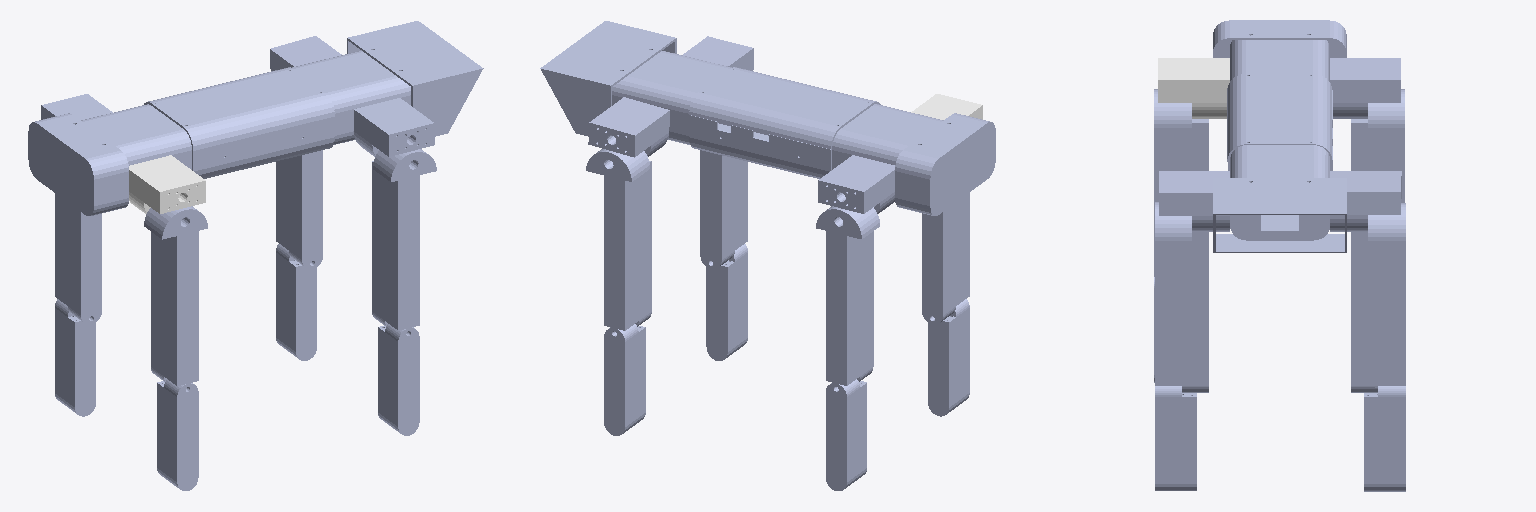
URDF robot description (body_2):
<?xml version="1.0" encoding="utf-8"?>
<!-- This URDF was automatically created by SolidWorks to URDF Exporter! Originally created by [author] ([email redacted]) 
     Commit Version: 1.5.1-0-g916b5db  Build Version: 1.5.7152.31018
     For more information, please see http://wiki.ros.org/sw_urdf_exporter -->
<robot
  name="body_2">
  <link
    name="base_link">
    <inertial>
      <origin
        xyz="-0.155684035227245 -0.15038557963088 0.394222306978325"
        rpy="0 0 0" />
      <mass
        value="2.10754232509242" />
      <inertia
        ixx="0.00435729546118946"
        ixy="1.96212800649361E-06"
        ixz="-3.16106836374245E-05"
        iyy="0.00431021528237915"
        iyz="2.71881252233039E-06"
        izz="0.00679613920376316" />
    </inertial>
    <visual>
      <origin
        xyz="0 0 0"
        rpy="0 0 0" />
      <geometry>
        <mesh
          filename="package://body_2/meshes/base_link.STL" />
      </geometry>
      <material
        name="">
        <color
          rgba="0.792156862745098 0.819607843137255 0.933333333333333 1" />
      </material>
    </visual>
    <collision>
      <origin
        xyz="0 0 0"
        rpy="0 0 0" />
      <geometry>
        <mesh
          filename="package://body_2/meshes/base_link.STL" />
      </geometry>
    </collision>
  </link>
  <link
    name="shoulder_link_lf">
    <inertial>
      <origin
        xyz="0.00717177702659216 -0.0537952753446505 0.385991412345479"
        rpy="0 0 0" />
      <mass
        value="0.218350078498136" />
      <inertia
        ixx="0.000119098761266887"
        ixy="-1.26838304791238E-08"
        ixz="-2.38167486209614E-06"
        iyy="9.40567738246345E-05"
        iyz="1.20632408009471E-09"
        izz="0.000178357454008516" />
    </inertial>
    <visual>
      <origin
        xyz="0 0 0"
        rpy="0 0 0" />
      <geometry>
        <mesh
          filename="package://body_2/meshes/shoulder_link_lf.STL" />
      </geometry>
      <material
        name="">
        <color
          rgba="0.792156862745098 0.819607843137255 0.933333333333333 1" />
      </material>
    </visual>
    <collision>
      <origin
        xyz="0 0 0"
        rpy="0 0 0" />
      <geometry>
        <mesh
          filename="package://body_2/meshes/shoulder_link_lf.STL" />
      </geometry>
    </collision>
  </link>
  <joint
    name="shoulder_joint_lf"
    type="revolute">
    <origin
      xyz="0 0 0"
      rpy="0 0 0" />
    <parent
      link="base_link" />
    <child
      link="shoulder_link_lf" />
    <axis
      xyz="0.0005065 1 0" />
    <limit
      lower="-1.5708"
      upper="1.5708"
      effort="100"
      velocity="1.5" />
    <dynamics
      damping="10"
      friction="0.1" />
  </joint>
  <link
    name="thigh_link_lf">
    <inertial>
      <origin
        xyz="0.0011572 -0.031402 0.26058"
        rpy="0 0 0" />
      <mass
        value="0.4738" />
      <inertia
        ixx="0.0015065"
        ixy="-5.1466E-08"
        ixz="2.4239E-20"
        iyy="0.0014049"
        iyz="-4.0206E-18"
        izz="0.00020143" />
    </inertial>
    <visual>
      <origin
        xyz="0 0 0"
        rpy="0 0 0" />
      <geometry>
        <mesh
          filename="package://body_2/meshes/thigh_link_lf.STL" />
      </geometry>
      <material
        name="">
        <color
          rgba="0.79216 0.81961 0.93333 1" />
      </material>
    </visual>
    <collision>
      <origin
        xyz="0 0 0"
        rpy="0 0 0" />
      <geometry>
        <mesh
          filename="package://body_2/meshes/thigh_link_lf.STL" />
      </geometry>
    </collision>
  </link>
  <joint
    name="elbow_joint_lf"
    type="revolute">
    <origin
      xyz="0 0 0"
      rpy="0 0 0" />
    <parent
      link="shoulder_link_lf" />
    <child
      link="thigh_link_lf" />
    <axis
      xyz="0.0005065 1 0" />
    <limit
      lower="-1.5708"
      upper="0.5708"
      effort="100"
      velocity="1.5" />
    <dynamics
      damping="10"
      friction="0.1" />
  </joint>
  <link
    name="shank_link_lf">
    <inertial>
      <origin
        xyz="-1.2433E-05 -0.024548 0.06946"
        rpy="0 0 0" />
      <mass
        value="0.19795" />
      <inertia
        ixx="0.00028816"
        ixy="-1.3086E-08"
        ixz="6.3593E-21"
        iyy="0.00026232"
        iyz="-7.3321E-19"
        izz="5.482E-05" />
    </inertial>
    <visual>
      <origin
        xyz="0 0 0"
        rpy="0 0 0" />
      <geometry>
        <mesh
          filename="package://body_2/meshes/shank_link_lf.STL" />
      </geometry>
      <material
        name="">
        <color
          rgba="0.79216 0.81961 0.93333 1" />
      </material>
    </visual>
    <collision>
      <origin
        xyz="0 0 0"
        rpy="0 0 0" />
      <geometry>
        <mesh
          filename="package://body_2/meshes/shank_link_lf.STL" />
      </geometry>
    </collision>
  </link>
  <joint
    name="knee_joint_lf"
    type="revolute">
    <origin
      xyz="0 0 0"
      rpy="0 0 0" />
    <parent
      link="thigh_link_lf" />
    <child
      link="shank_link_lf" />
    <axis
      xyz="0.0005065 1 0" />
    <limit
      lower="-1.5708"
      upper="1.5708"
      effort="100"
      velocity="1.5" />
    <dynamics
      damping="10"
      friction="0.1" />
  </joint>
  <link
    name="shoulder_link_rf">
    <inertial>
      <origin
        xyz="0.00678657716852507 -0.24621183307722 0.385984477189113"
        rpy="0 0 0" />
      <mass
        value="0.218350078498136" />
      <inertia
        ixx="0.000119007083932726"
        ixy="-1.26373956875525E-08"
        ixz="-4.80928295612577E-07"
        iyy="9.4056773801115E-05"
        iyz="2.43591345570969E-10"
        izz="0.000178449131366197" />
    </inertial>
    <visual>
      <origin
        xyz="0 0 0"
        rpy="0 0 0" />
      <geometry>
        <mesh
          filename="package://body_2/meshes/shoulder_link_rf.STL" />
      </geometry>
      <material
        name="">
        <color
          rgba="0.792156862745098 0.819607843137255 0.933333333333333 1" />
      </material>
    </visual>
    <collision>
      <origin
        xyz="0 0 0"
        rpy="0 0 0" />
      <geometry>
        <mesh
          filename="package://body_2/meshes/shoulder_link_rf.STL" />
      </geometry>
    </collision>
  </link>
  <joint
    name="shoulder_joint_rf"
    type="revolute">
    <origin
      xyz="0 0 0"
      rpy="0 0 0" />
    <parent
      link="base_link" />
    <child
      link="shoulder_link_rf" />
    <axis
      xyz="0.0005065 1 0" />
    <limit
      lower="-1.5708"
      upper="1.5708"
      effort="100"
      velocity="1.5" />
    <dynamics
      damping="10"
      friction="0.1" />
  </joint>
  <link
    name="thigh_link_rf">
    <inertial>
      <origin
        xyz="0.00089202 -0.2686 0.26055"
        rpy="0 0 0" />
      <mass
        value="0.4738" />
      <inertia
        ixx="0.0015065"
        ixy="-5.1466E-08"
        ixz="-2.3111E-20"
        iyy="0.0014049"
        iyz="-4.2668E-18"
        izz="0.00020143" />
    </inertial>
    <visual>
      <origin
        xyz="0 0 0"
        rpy="0 0 0" />
      <geometry>
        <mesh
          filename="package://body_2/meshes/thigh_link_rf.STL" />
      </geometry>
      <material
        name="">
        <color
          rgba="0.79216 0.81961 0.93333 1" />
      </material>
    </visual>
    <collision>
      <origin
        xyz="0 0 0"
        rpy="0 0 0" />
      <geometry>
        <mesh
          filename="package://body_2/meshes/thigh_link_rf.STL" />
      </geometry>
    </collision>
  </link>
  <joint
    name="elbow_joint_rf"
    type="revolute">
    <origin
      xyz="0 0 0"
      rpy="0 0 0" />
    <parent
      link="shoulder_link_rf" />
    <child
      link="thigh_link_rf" />
    <axis
      xyz="0.0005065 1 0" />
    <limit
      lower="-1.5708"
      upper="1.5708"
      effort="100"
      velocity="1.5" />
    <dynamics
      damping="10"
      friction="0.1" />
  </joint>
  <link
    name="shank_link_rf">
    <inertial>
      <origin
        xyz="-0.00013952 -0.27545 0.069436"
        rpy="0 0 0" />
      <mass
        value="0.19795" />
      <inertia
        ixx="0.00028816"
        ixy="-1.3086E-08"
        ixz="-8.1673E-19"
        iyy="0.00026232"
        iyz="-7.0243E-19"
        izz="5.482E-05" />
    </inertial>
    <visual>
      <origin
        xyz="0 0 0"
        rpy="0 0 0" />
      <geometry>
        <mesh
          filename="package://body_2/meshes/shank_link_rf.STL" />
      </geometry>
      <material
        name="">
        <color
          rgba="0.79216 0.81961 0.93333 1" />
      </material>
    </visual>
    <collision>
      <origin
        xyz="0 0 0"
        rpy="0 0 0" />
      <geometry>
        <mesh
          filename="package://body_2/meshes/shank_link_rf.STL" />
      </geometry>
    </collision>
  </link>
  <joint
    name="knee_joint_rf"
    type="revolute">
    <origin
      xyz="0 0 0"
      rpy="0 0 0" />
    <parent
      link="thigh_link_rf" />
    <child
      link="shank_link_rf" />
    <axis
      xyz="0.000506502354392091 0.999999871727674 0" />
    <limit
      lower="-1.5708"
      upper="1.5708"
      effort="100"
      velocity="1.5" />
    <dynamics
      damping="10"
      friction="0.1" />
  </joint>
  <link
    name="shoulder_link_lb">
    <inertial>
      <origin
        xyz="-0.316119794412013 -0.0542536019385395 0.384115405127243"
        rpy="0 0 0" />
      <mass
        value="0.218350078498136" />
      <inertia
        ixx="0.000119007090333597"
        ixy="2.57750436027565E-19"
        ixz="-4.80928357302368E-07"
        iyy="9.40567674002435E-05"
        iyz="9.53966235697497E-21"
        izz="0.000178449131366197" />
    </inertial>
    <visual>
      <origin
        xyz="0 0 0"
        rpy="0 0 0" />
      <geometry>
        <mesh
          filename="package://body_2/meshes/shoulder_link_lb.STL" />
      </geometry>
      <material
        name="">
        <color
          rgba="0.792156862745098 0.819607843137255 0.933333333333333 1" />
      </material>
    </visual>
    <collision>
      <origin
        xyz="0 0 0"
        rpy="0 0 0" />
      <geometry>
        <mesh
          filename="package://body_2/meshes/shoulder_link_lb.STL" />
      </geometry>
    </collision>
  </link>
  <joint
    name="shoulder_joint_lb"
    type="revolute">
    <origin
      xyz="0 0 0"
      rpy="0 0 0" />
    <parent
      link="base_link" />
    <child
      link="shoulder_link_lb" />
    <axis
      xyz="0 1 0" />
    <limit
      lower="-1.5708"
      upper="1.5708"
      effort="100"
      velocity="1.5" />
    <dynamics
      damping="10"
      friction="0.1" />
  </joint>
  <link
    name="thigh_link_lb">
    <inertial>
      <origin
        xyz="-0.31276 -0.031863 0.25868"
        rpy="0 0 0" />
      <mass
        value="0.4738" />
      <inertia
        ixx="0.0015065"
        ixy="3.9168E-19"
        ixz="-4.5601E-18"
        iyy="0.0014049"
        iyz="3.3947E-19"
        izz="0.00020143" />
    </inertial>
    <visual>
      <origin
        xyz="0 0 0"
        rpy="0 0 0" />
      <geometry>
        <mesh
          filename="package://body_2/meshes/thigh_link_lb.STL" />
      </geometry>
      <material
        name="">
        <color
          rgba="0.79216 0.81961 0.93333 1" />
      </material>
    </visual>
    <collision>
      <origin
        xyz="0 0 0"
        rpy="0 0 0" />
      <geometry>
        <mesh
          filename="package://body_2/meshes/thigh_link_lb.STL" />
      </geometry>
    </collision>
  </link>
  <joint
    name="elbow_joint_lb"
    type="revolute">
    <origin
      xyz="0 0 0"
      rpy="0 0 0" />
    <parent
      link="shoulder_link_lb" />
    <child
      link="thigh_link_lb" />
    <axis
      xyz="0 1 0" />
    <limit
      lower="-1.5708"
      upper="1.5708"
      effort="100"
      velocity="1.5" />
    <dynamics
      damping="10"
      friction="0.1" />
  </joint>
  <link
    name="shank_link_lb">
    <inertial>
      <origin
        xyz="-0.31222 -0.02501 0.067567"
        rpy="0 0 0" />
      <mass
        value="0.19795" />
      <inertia
        ixx="0.00028816"
        ixy="1.7816E-19"
        ixz="-1.6642E-20"
        iyy="0.00026232"
        iyz="-6.9745E-19"
        izz="5.482E-05" />
    </inertial>
    <visual>
      <origin
        xyz="0 0 0"
        rpy="0 0 0" />
      <geometry>
        <mesh
          filename="package://body_2/meshes/shank_link_lb.STL" />
      </geometry>
      <material
        name="">
        <color
          rgba="0.79216 0.81961 0.93333 1" />
      </material>
    </visual>
    <collision>
      <origin
        xyz="0 0 0"
        rpy="0 0 0" />
      <geometry>
        <mesh
          filename="package://body_2/meshes/shank_link_lb.STL" />
      </geometry>
    </collision>
  </link>
  <joint
    name="knee_joint_lb"
    type="revolute">
    <origin
      xyz="0 0 0"
      rpy="0 0 0" />
    <parent
      link="thigh_link_lb" />
    <child
      link="shank_link_lb" />
    <axis
      xyz="0.0005065 1 0" />
    <limit
      lower="-1.5708"
      upper="1.5708"
      effort="100"
      velocity="1.5" />
    <dynamics
      damping="10"
      friction="0.1" />
  </joint>
  <link
    name="shoulder_link_rb">
    <inertial>
      <origin
        xyz="0 0 0"
        rpy="0 0 0" />
      <mass
        value="0" />
      <inertia
        ixx="0"
        ixy="0"
        ixz="0"
        iyy="0"
        iyz="0"
        izz="0" />
    </inertial>
    <visual>
      <origin
        xyz="0 0 0"
        rpy="0 0 0" />
      <geometry>
        <mesh
          filename="package://body_2/meshes/shoulder_link_rb.STL" />
      </geometry>
      <material
        name="">
        <color
          rgba="1 1 1 1" />
      </material>
    </visual>
    <collision>
      <origin
        xyz="0 0 0"
        rpy="0 0 0" />
      <geometry>
        <mesh
          filename="package://body_2/meshes/shoulder_link_rb.STL" />
      </geometry>
    </collision>
  </link>
  <joint
    name="shoulder_joint_rb"
    type="revolute">
    <origin
      xyz="0 0 0"
      rpy="0 0 0" />
    <parent
      link="base_link" />
    <child
      link="shoulder_link_rb" />
    <axis
      xyz="0 1 0" />
    <limit
      lower="-1.5708"
      upper="1.5708"
      effort="100"
      velocity="1.5" />
    <dynamics
      damping="10"
      friction="0.1" />
  </joint>
  <link
    name="thigh_link_rb">
    <inertial>
      <origin
        xyz="-0.31276 -0.26906 0.25868"
        rpy="0 0 0" />
      <mass
        value="0.4738" />
      <inertia
        ixx="0.0015065"
        ixy="3.7799E-19"
        ixz="-4.5547E-18"
        iyy="0.0014049"
        iyz="1.8667E-19"
        izz="0.00020143" />
    </inertial>
    <visual>
      <origin
        xyz="0 0 0"
        rpy="0 0 0" />
      <geometry>
        <mesh
          filename="package://body_2/meshes/thigh_link_rb.STL" />
      </geometry>
      <material
        name="">
        <color
          rgba="0.79216 0.81961 0.93333 1" />
      </material>
    </visual>
    <collision>
      <origin
        xyz="0 0 0"
        rpy="0 0 0" />
      <geometry>
        <mesh
          filename="package://body_2/meshes/thigh_link_rb.STL" />
      </geometry>
    </collision>
  </link>
  <joint
    name="elbow_joint_rb"
    type="revolute">
    <origin
      xyz="0 0 0"
      rpy="0 0 0" />
    <parent
      link="shoulder_link_rb" />
    <child
      link="thigh_link_rb" />
    <axis
      xyz="0 1 0" />
    <limit
      lower="-1.5708"
      upper="1.5708"
      effort="100"
      velocity="1.5" />
    <dynamics
      damping="10"
      friction="0.1" />
  </joint>
  <link
    name="shank_link_rb">
    <inertial>
      <origin
        xyz="-0.157777969833373 0.301408289526244 -0.114944515476192"
        rpy="0 0 0" />
      <mass
        value="0.197946507794996" />
      <inertia
        ixx="0.000288156381500193"
        ixy="2.03184467607051E-20"
        ixz="1.74636529331936E-19"
        iyy="5.48196355836687E-05"
        iyz="6.83615271764718E-19"
        izz="0.000262320444376973" />
    </inertial>
    <visual>
      <origin
        xyz="0 0 0"
        rpy="0 0 0" />
      <geometry>
        <mesh
          filename="package://body_2/meshes/shank_link_rb.STL" />
      </geometry>
      <material
        name="">
        <color
          rgba="0.792156862745098 0.819607843137255 0.933333333333333 1" />
      </material>
    </visual>
    <collision>
      <origin
        xyz="0 0 0"
        rpy="0 0 0" />
      <geometry>
        <mesh
          filename="package://body_2/meshes/shank_link_rb.STL" />
      </geometry>
    </collision>
  </link>
  <joint
    name="knee_joint_rb"
    type="revolute">
    <origin
      xyz="-0.15444 -0.16097 0.36897"
      rpy="-1.5708 0 0" />
    <parent
      link="thigh_link_rb" />
    <child
      link="shank_link_rb" />
    <axis
      xyz="0.0005065 0 1" />
    <limit
      lower="-1.5708"
      upper="1.5708"
      effort="100"
      velocity="1.5" />
    <dynamics
      damping="10"
      friction="0.1" />
  </joint>
</robot>

--- Facts derived from the render (not from the file) ---
The picture shows the robot from 3 angles, left to right: view 1: azimuth 30°, elevation 25°; view 2: azimuth 150°, elevation 25°; view 3: azimuth 270°, elevation 25°; orthographic projection.
Model body_2 with 13 links and 12 joints (12 revolute), rooted at base_link, posed every joint at zero.
Visible links, largest first — view 1: base_link, thigh_link_rf, thigh_link_rb, thigh_link_lb, thigh_link_lf, shank_link_rf, shank_link_rb, shank_link_lb, shank_link_lf, shoulder_link_rf, shoulder_link_rb, shoulder_link_lf (+1 smaller); view 2: base_link, thigh_link_lf, thigh_link_lb, thigh_link_rb, thigh_link_rf, shank_link_lf, shank_link_lb, shank_link_rb, shank_link_rf, shoulder_link_lf, shoulder_link_lb, shoulder_link_rf (+1 smaller); view 3: base_link, thigh_link_lf, thigh_link_rf, shank_link_lf, shank_link_rf, thigh_link_rb, shoulder_link_rb, shoulder_link_lb, thigh_link_lb, shoulder_link_lf, shoulder_link_rf.
Boxes of the visible links, x1=… form: base_link: x1=28, y1=21, x2=483, y2=215; thigh_link_rf: x1=372, y1=149, x2=436, y2=330; thigh_link_rb: x1=144, y1=206, x2=207, y2=385; thigh_link_lb: x1=55, y1=193, x2=101, y2=324; thigh_link_lf: x1=276, y1=150, x2=322, y2=268; shank_link_rf: x1=378, y1=324, x2=419, y2=435; shank_link_rb: x1=157, y1=379, x2=198, y2=490; shank_link_lb: x1=55, y1=299, x2=95, y2=416; shank_link_lf: x1=276, y1=244, x2=316, y2=360; shoulder_link_rf: x1=354, y1=98, x2=434, y2=156; shoulder_link_rb: x1=129, y1=155, x2=205, y2=213; shoulder_link_lf: x1=270, y1=36, x2=341, y2=70; base_link: x1=540, y1=21, x2=995, y2=215; thigh_link_lf: x1=586, y1=149, x2=651, y2=330; thigh_link_lb: x1=816, y1=206, x2=879, y2=385; thigh_link_rb: x1=922, y1=193, x2=969, y2=324; thigh_link_rf: x1=700, y1=150, x2=747, y2=268; shank_link_lf: x1=604, y1=324, x2=645, y2=435; shank_link_lb: x1=826, y1=379, x2=866, y2=490; shank_link_rb: x1=928, y1=299, x2=969, y2=416; shank_link_rf: x1=706, y1=244, x2=747, y2=360; shoulder_link_lf: x1=588, y1=97, x2=669, y2=157; shoulder_link_lb: x1=818, y1=155, x2=894, y2=213; shoulder_link_rf: x1=683, y1=36, x2=753, y2=70; base_link: x1=1213, y1=20, x2=1346, y2=252; thigh_link_lf: x1=1351, y1=203, x2=1405, y2=392; thigh_link_rf: x1=1155, y1=202, x2=1208, y2=392; shank_link_lf: x1=1364, y1=386, x2=1405, y2=491; shank_link_rf: x1=1155, y1=386, x2=1196, y2=490; thigh_link_rb: x1=1154, y1=89, x2=1208, y2=276; shoulder_link_rb: x1=1158, y1=58, x2=1229, y2=118; shoulder_link_lb: x1=1330, y1=58, x2=1400, y2=118; thigh_link_lb: x1=1351, y1=89, x2=1404, y2=202; shoulder_link_lf: x1=1330, y1=171, x2=1401, y2=231; shoulder_link_rf: x1=1159, y1=171, x2=1229, y2=231.
Bounding box of the posed robot: 0.55 × 0.3005 × 0.4347 m (x, y, z).
13 mesh visuals loaded from 13 distinct referenced files (13 binary STL).